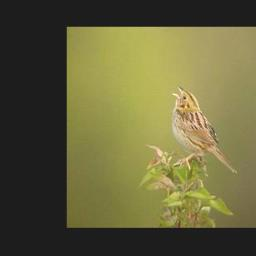Sparrow: (172, 84, 238, 175)
